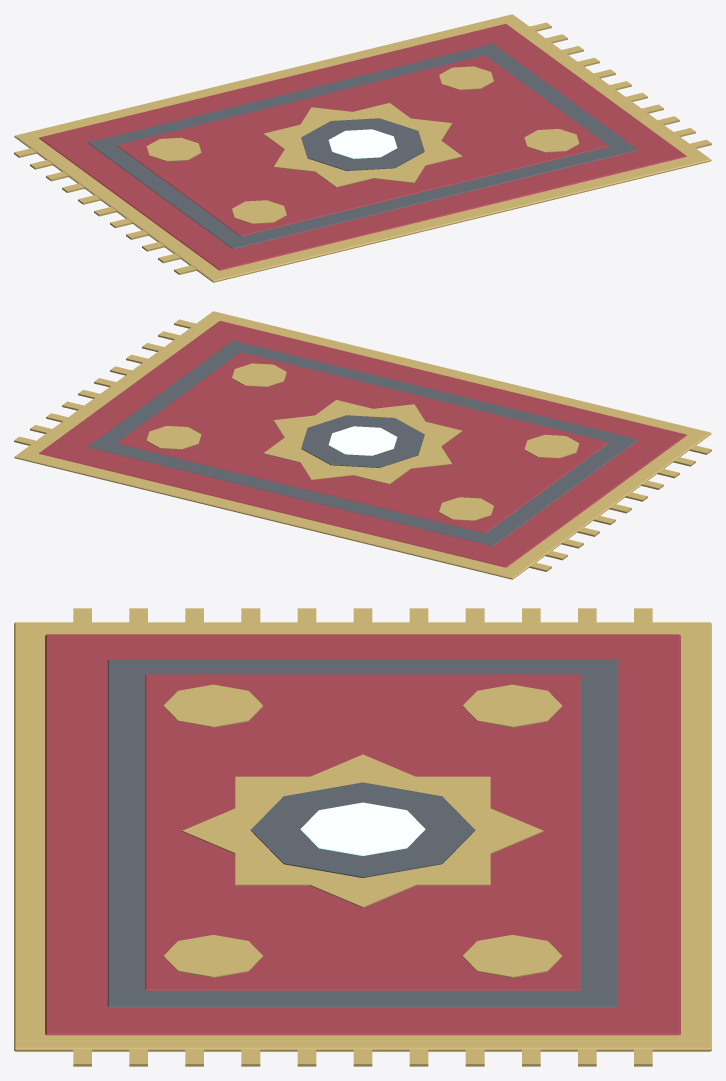
File: castle_rug.glb
3 renders of one model, top to bottom at view 1: azimuth 30°, elevation 25°; view 2: azimuth 150°, elevation 25°; view 3: azimuth 270°, elevation 25°, orthographic. The views are drawn at different scales.
Visible parts, largest first — view 1: Castle_Rug; view 2: Castle_Rug; view 3: Castle_Rug.
Boxes of the visible parts, bbox=[...] form: Castle_Rug: bbox=[14, 14, 711, 282]; Castle_Rug: bbox=[14, 311, 711, 579]; Castle_Rug: bbox=[14, 608, 711, 1066].
Bounding box in the file's own units: 4.67 × 0.0483 × 3.02.
